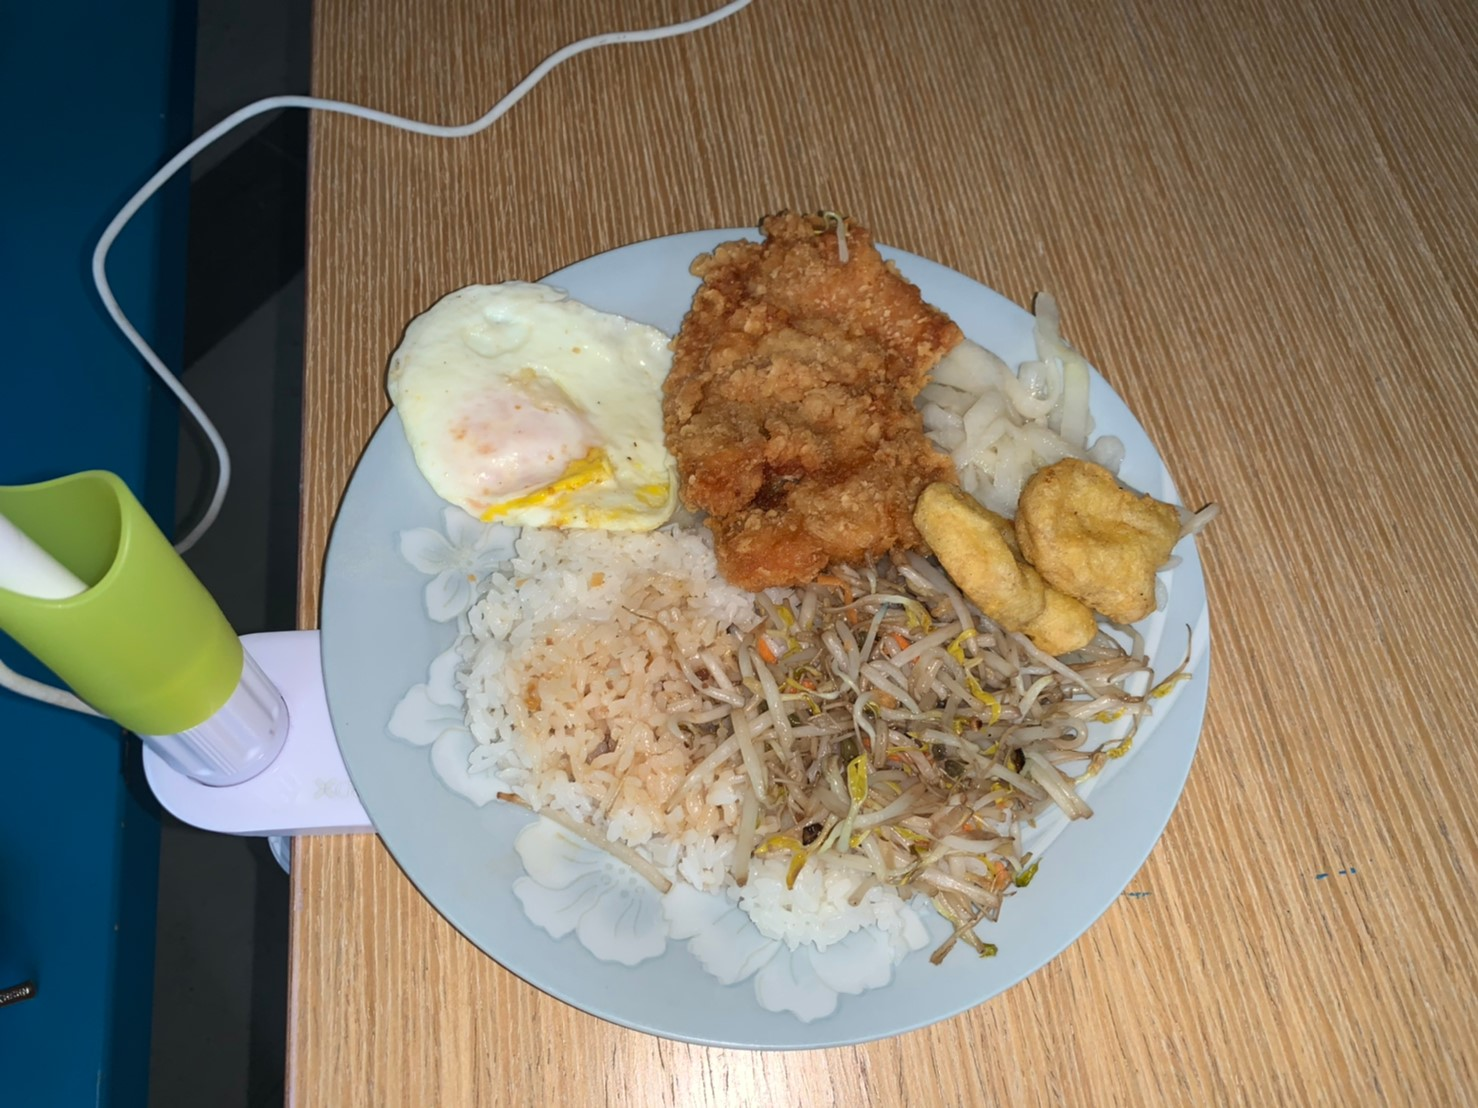chicken_nuggets: (916, 457, 1188, 652)
fried_chicken: (678, 211, 941, 585)
fried_eggs: (385, 279, 672, 534)
mung_bean_sprouts: (763, 598, 1097, 909)
rice: (495, 539, 756, 851)
